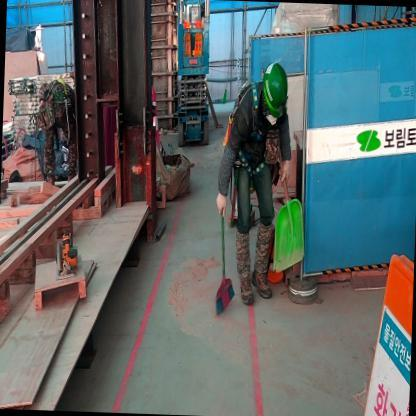Helmet: (257, 62, 297, 125)
safety-shoe: (232, 269, 256, 313), (253, 262, 274, 305)
